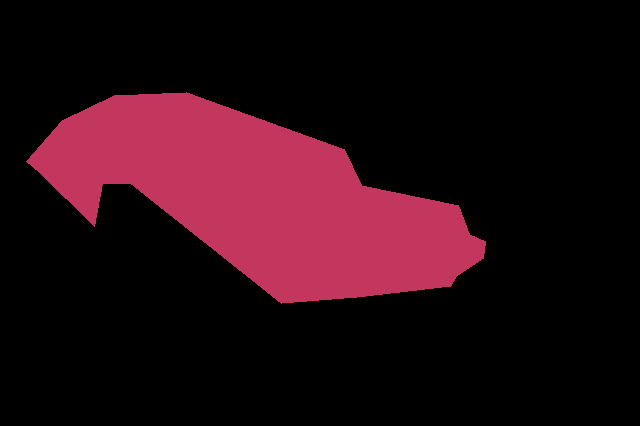Airplane: (26, 92, 486, 304)
